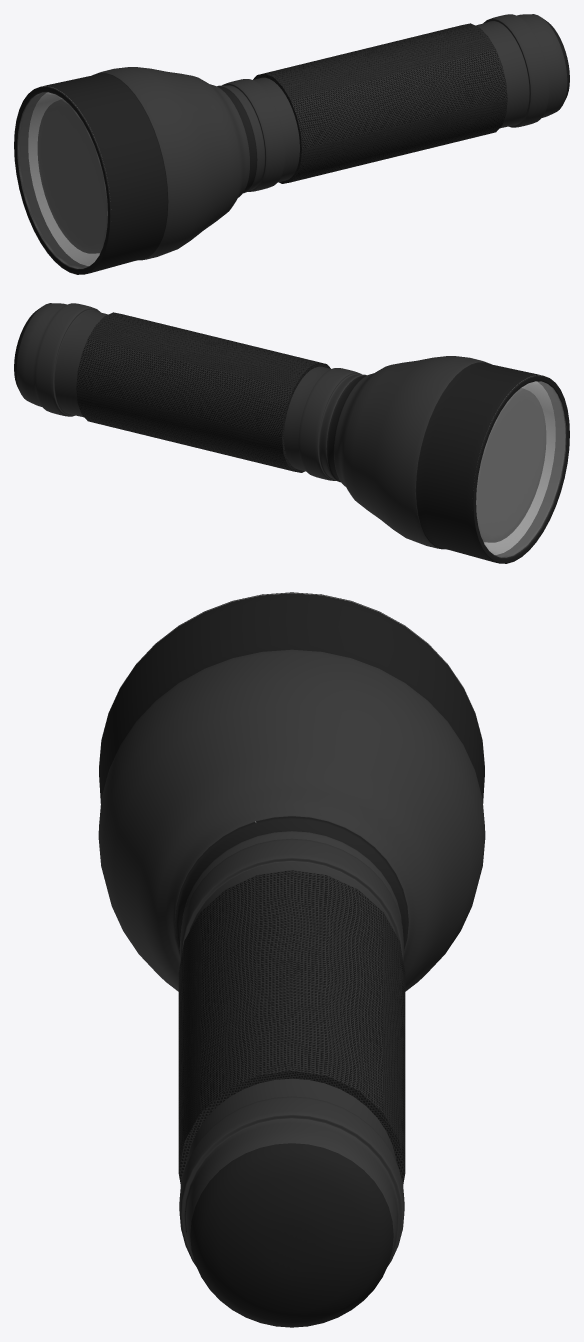
Rendered from flashlight.fbx.
3 views of the same model, one above another, from view 1: azimuth 30°, elevation 25°; view 2: azimuth 150°, elevation 25°; view 3: azimuth 270°, elevation 25° (orthographic). The views are drawn at different scales.
Visible parts, largest first — view 1: pCylinder53, pCylinder57, pCylinder56, pCylinder55; view 2: pCylinder53, pCylinder57, pCylinder56, pCylinder55; view 3: pCylinder53, pCylinder57.
Part boxes in pixels (x1=…): pCylinder53: x1=14, y1=14, x2=569, y2=274; pCylinder57: x1=253, y1=23, x2=507, y2=183; pCylinder56: x1=18, y1=86, x2=111, y2=268; pCylinder55: x1=38, y1=99, x2=107, y2=253; pCylinder53: x1=14, y1=303, x2=569, y2=563; pCylinder57: x1=76, y1=312, x2=330, y2=472; pCylinder56: x1=476, y1=375, x2=565, y2=557; pCylinder55: x1=476, y1=388, x2=545, y2=542; pCylinder53: x1=98, y1=592, x2=485, y2=1327; pCylinder57: x1=178, y1=870, x2=405, y2=1185.
Bounding box in the file's own units: 0.1134 × 0.0384 × 0.0384.
Materials: 2 (1 with a texture image).
